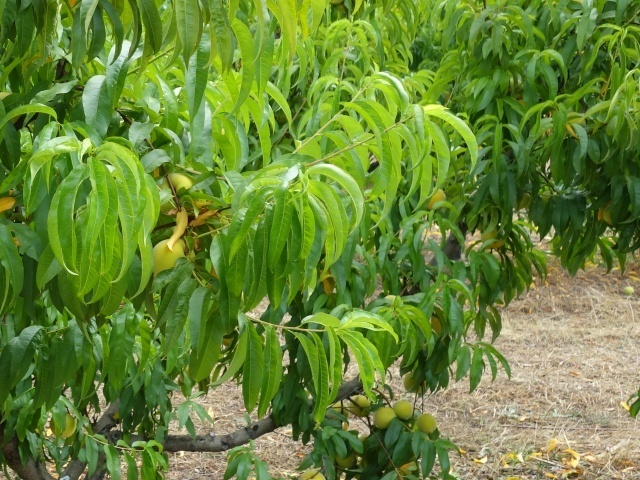peach: (147, 231, 201, 280), (156, 166, 200, 201), (49, 410, 78, 442), (370, 402, 398, 431), (413, 410, 441, 439), (398, 372, 428, 398), (347, 391, 374, 418), (390, 396, 414, 425), (331, 449, 359, 472), (424, 185, 448, 210)
